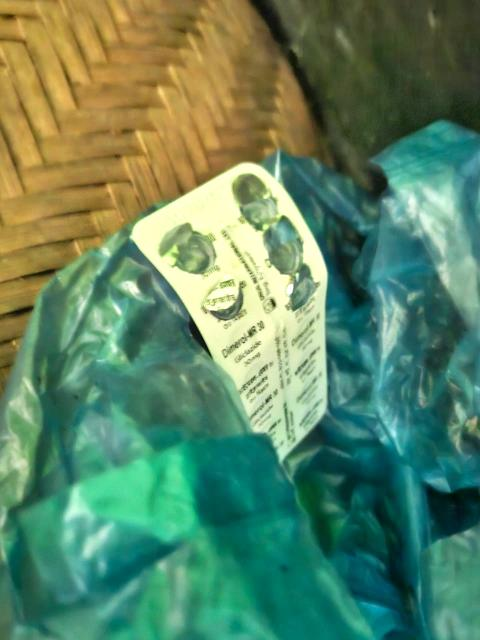medicine: (106, 132, 399, 473)
